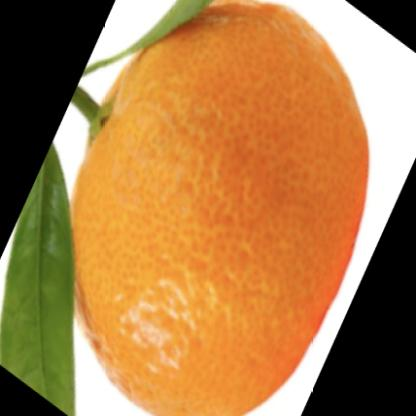fresh: (62, 2, 369, 416)
